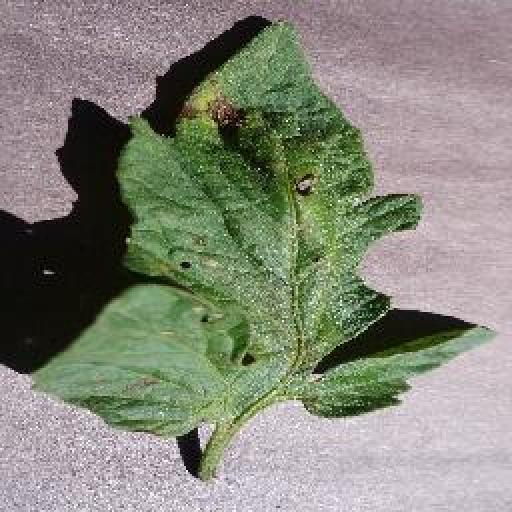Early Blight: (31, 20, 502, 439)
